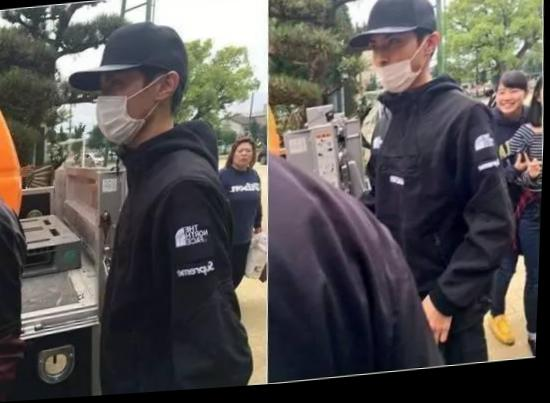NONE: (495, 90, 524, 122), (236, 149, 258, 169)
OK: (95, 69, 177, 147)
WRONG: (370, 29, 442, 102)
